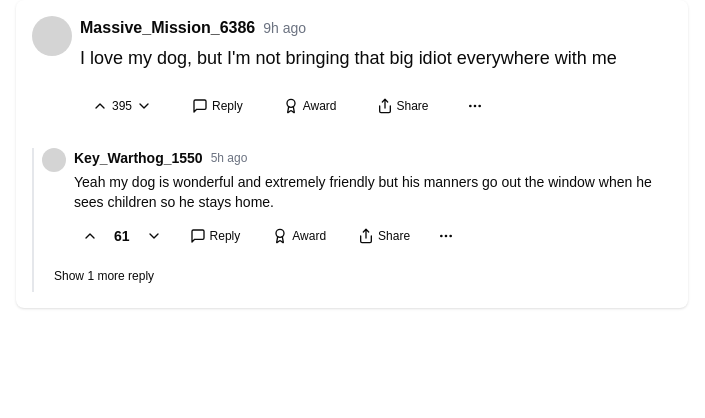
Test case: Post Component › should toggle replies
The width and height of the screenshot is (705, 418).
# Click to show replies
Click the button "Show 1 more reply". click: (104,276)
box: [42,260,166,292]
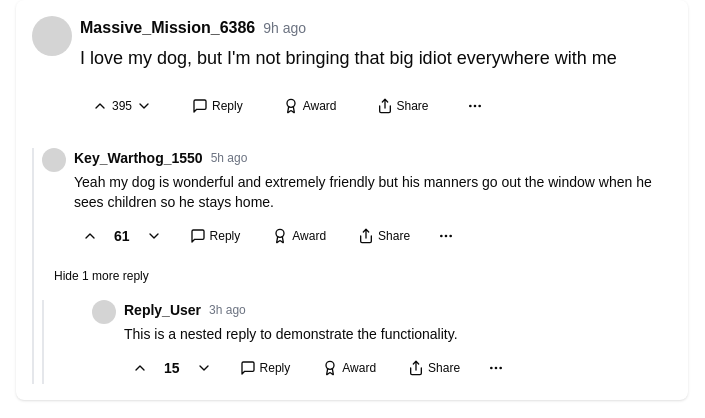
expect the text "This is a nested reply to demonstrate the functionality." is shown: met, box [124,326,458,342]
Click the button "Hide 1 more reply". click: (101,276)
box: [42,260,161,292]
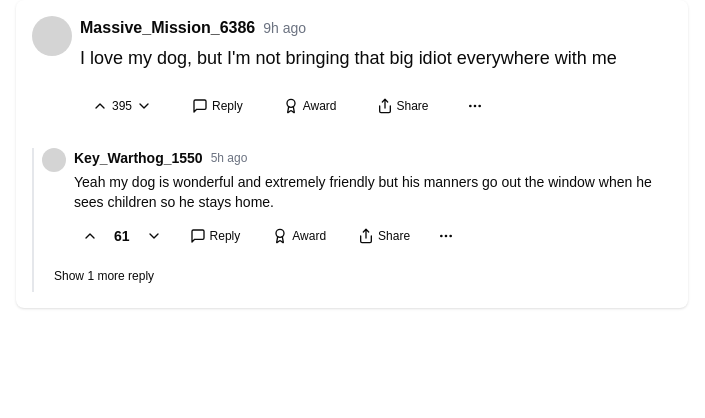
expect the text "This is a nested reply to demonstrate the functionality." is gone: met
